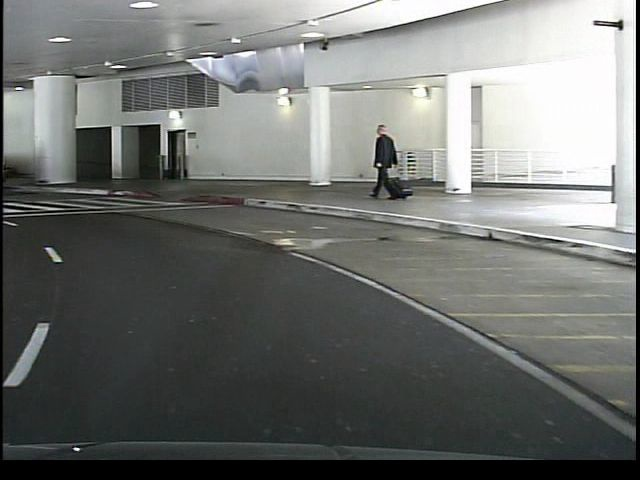person: (365, 121, 401, 199)
